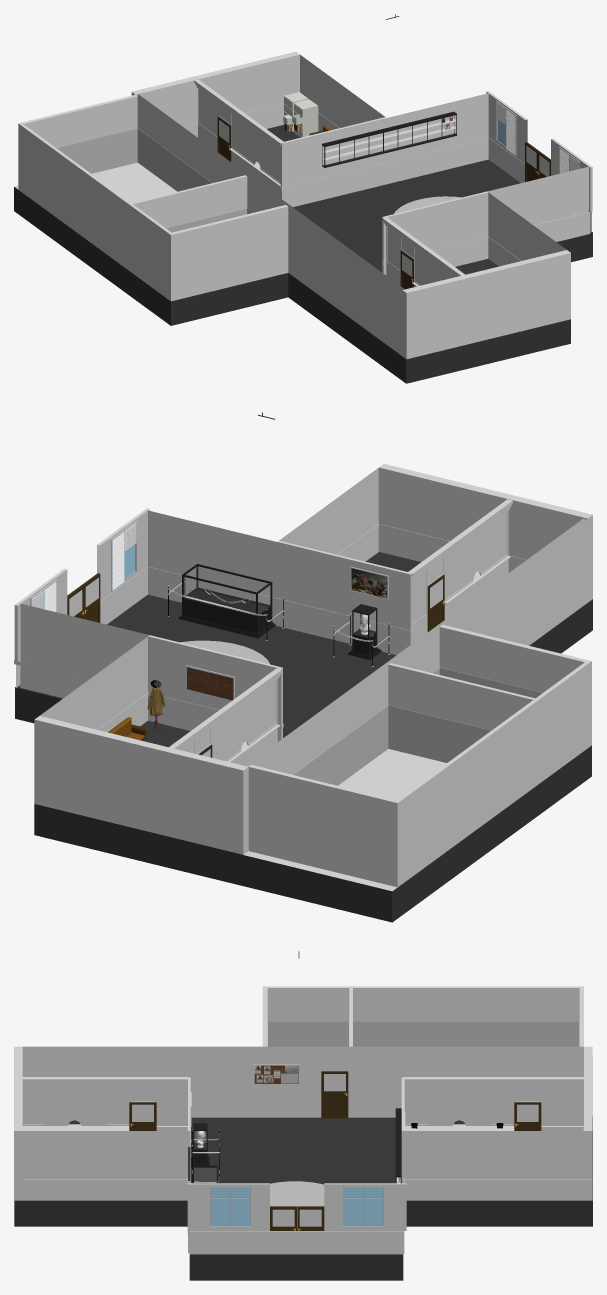
File: koridor.fbx
The picture shows the model from 3 angles, top to bottom: view 1: azimuth 30°, elevation 25°; view 2: azimuth 150°, elevation 25°; view 3: azimuth 270°, elevation 25°; orthographic projection. The views are drawn at different scales.
Visible parts, largest first — view 1: Cube, Floor, Plane.008, Plane.009, Cube.002, Plane.011, Cube.010, Plane.012, Cube.035, Cube.012, Cube.013, Cube.004 (+19 smaller); view 2: Cube, Plane.009, Floor, Cube.002, Plane.008, Plane.011, Plane.012, Cube.035, Cube.012, Cube.013, Floor.001, Cube.009 (+23 smaller); view 3: Floor, Cube.022, Plane.009, Cube.012, Cube.013, Plane.012, Cube.008, Cube.001, Cube.015, Cube 1.003, Cube 1.001, Plane.008 (+23 smaller).
Boxes of the visible parts, box(x1,y1,x2,y2) form: Cube: box(131, 51, 570, 359); Floor: box(14, 125, 592, 383); Plane.008: box(130, 176, 288, 301); Plane.009: box(18, 94, 246, 270); Cube.002: box(381, 166, 590, 275); Plane.011: box(288, 207, 402, 355); Cube.010: box(280, 137, 488, 206); Plane.012: box(59, 131, 209, 191); Cube.035: box(410, 93, 488, 156); Cube.012: box(300, 55, 384, 127); Cube.013: box(488, 192, 566, 260); Cube.004: box(194, 79, 283, 197); Cube: box(34, 464, 592, 854); Plane.009: box(248, 663, 539, 887); Floor: box(15, 552, 592, 922); Cube.002: box(148, 510, 412, 654); Plane.008: box(391, 625, 591, 782); Plane.011: box(443, 518, 587, 645); Plane.012: box(296, 708, 488, 785); Cube.035: box(20, 604, 119, 678); Cube.012: box(40, 637, 147, 729); Cube.013: box(279, 468, 378, 554); Floor.001: box(244, 749, 446, 891); Cube.009: box(408, 499, 512, 643); Floor: box(14, 1116, 592, 1280); Cube.022: box(22, 1048, 583, 1094); Plane.009: box(349, 986, 583, 1047); Cube.012: box(401, 1131, 592, 1177); Cube.013: box(16, 1131, 187, 1177); Plane.012: box(353, 1024, 579, 1046); Cube.008: box(189, 1231, 404, 1254); Cube.001: box(401, 1126, 592, 1200); Cube.015: box(22, 1177, 187, 1200); Cube 1.003: box(405, 1088, 512, 1124); Cube 1.001: box(23, 1088, 128, 1124); Plane.008: box(262, 986, 349, 1047).
Size of the model in its own units: 33 by 40.62 by 19.56.
